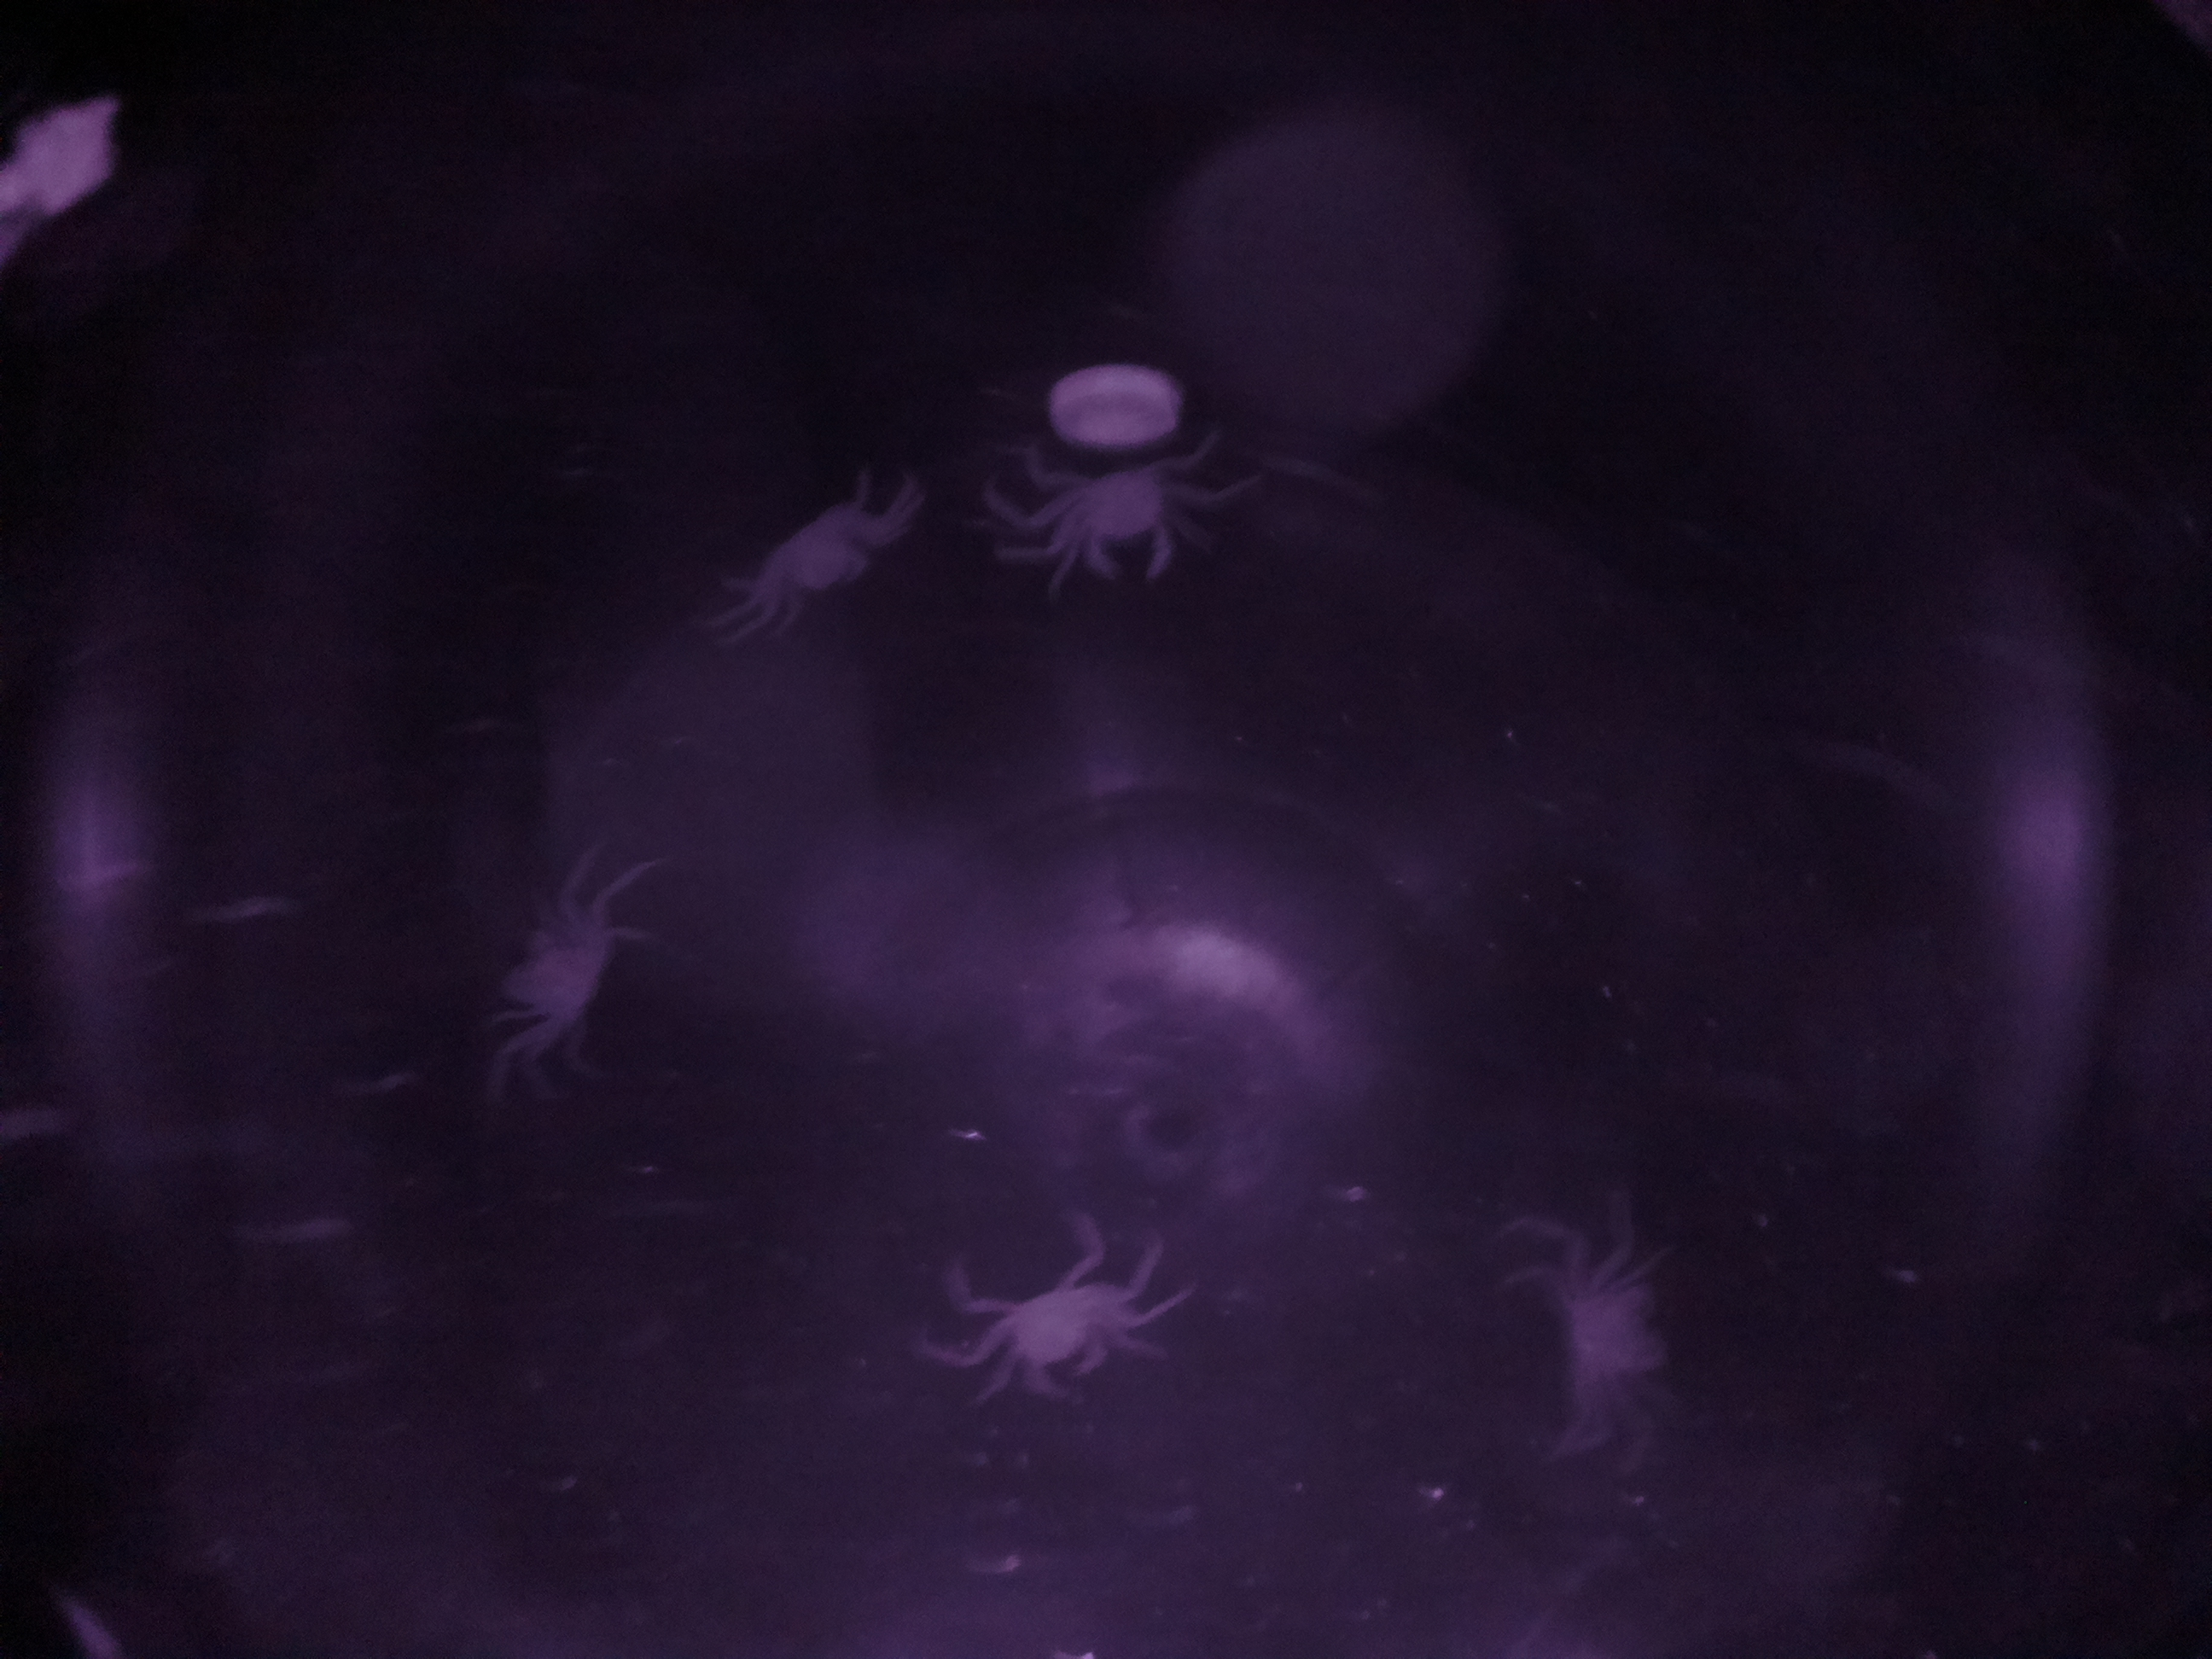Crab: (1005, 436, 1209, 606), (965, 1251, 1146, 1417)
